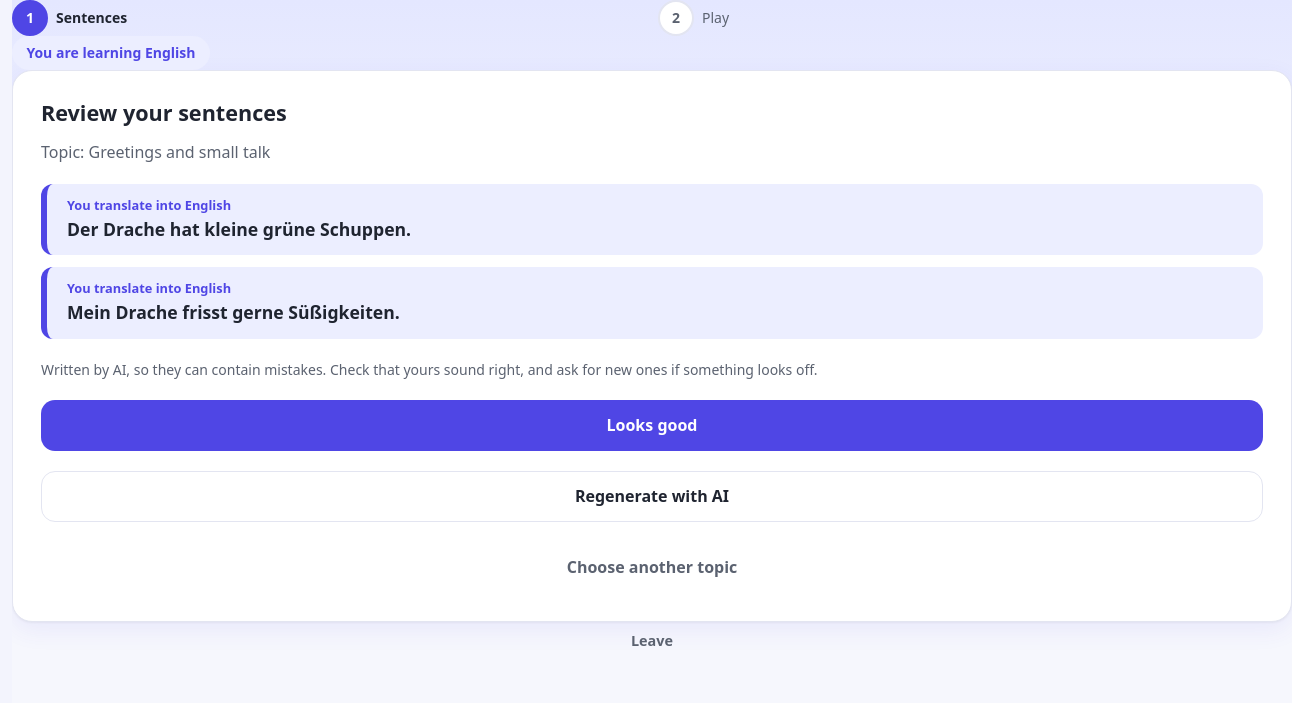
Test case: SoloGame › lets the player go back to earlier sentences, during the round and after it
Click the button "Looks good": (652, 426) [41,400,1263,451]
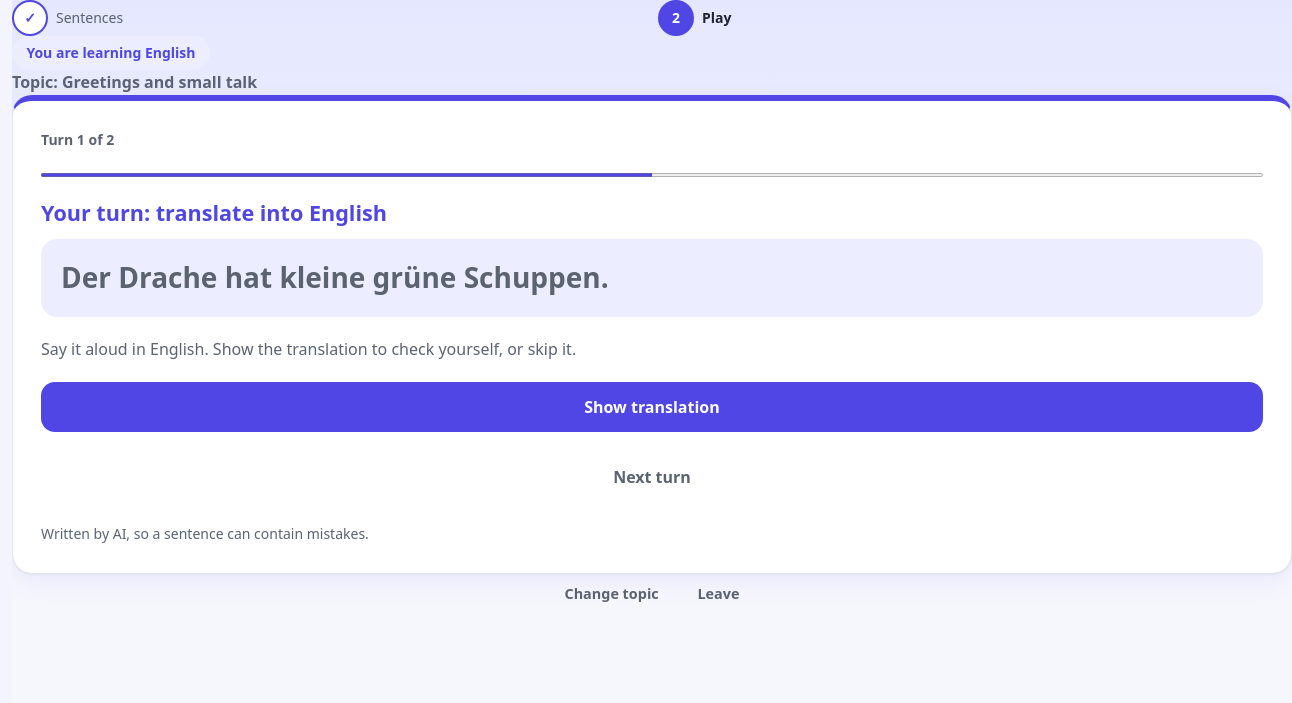
Expected: the button "Previous sentence" is not shown
Click the button "Next turn": (652, 478) [41,452,1263,503]
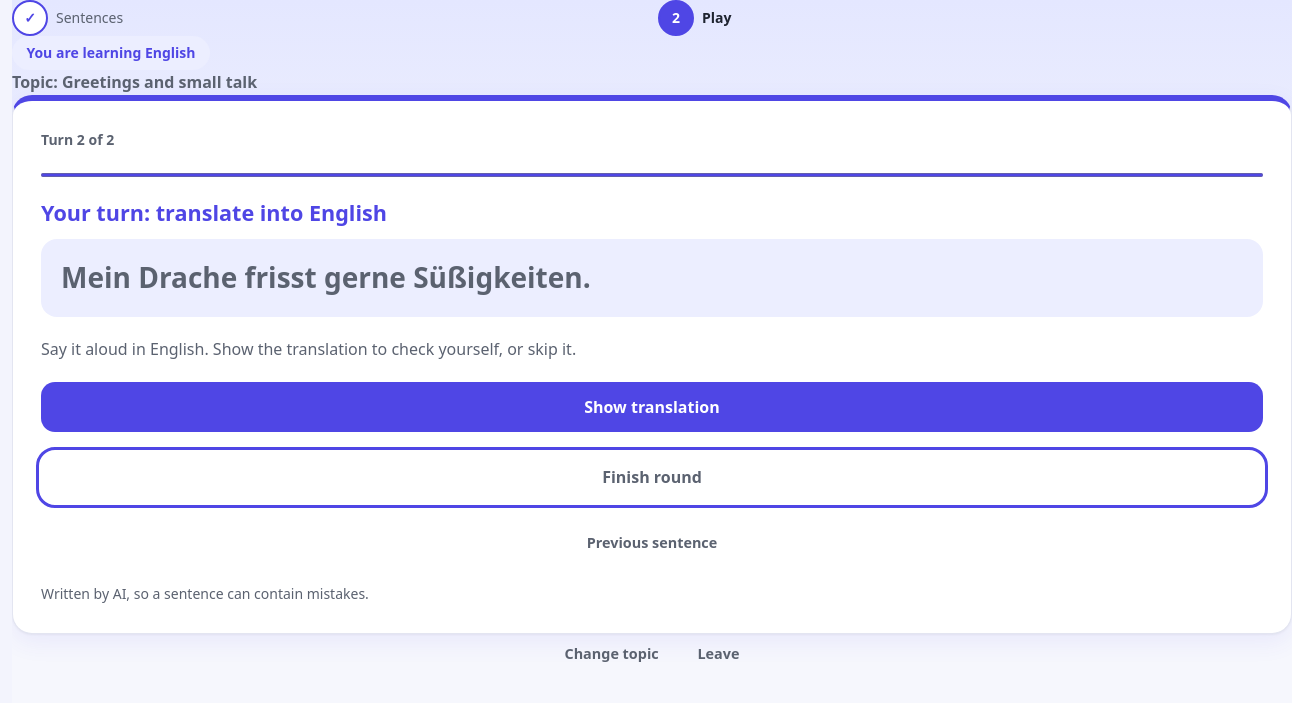
Click the button "Previous sentence": (652, 543) [571,523,733,563]
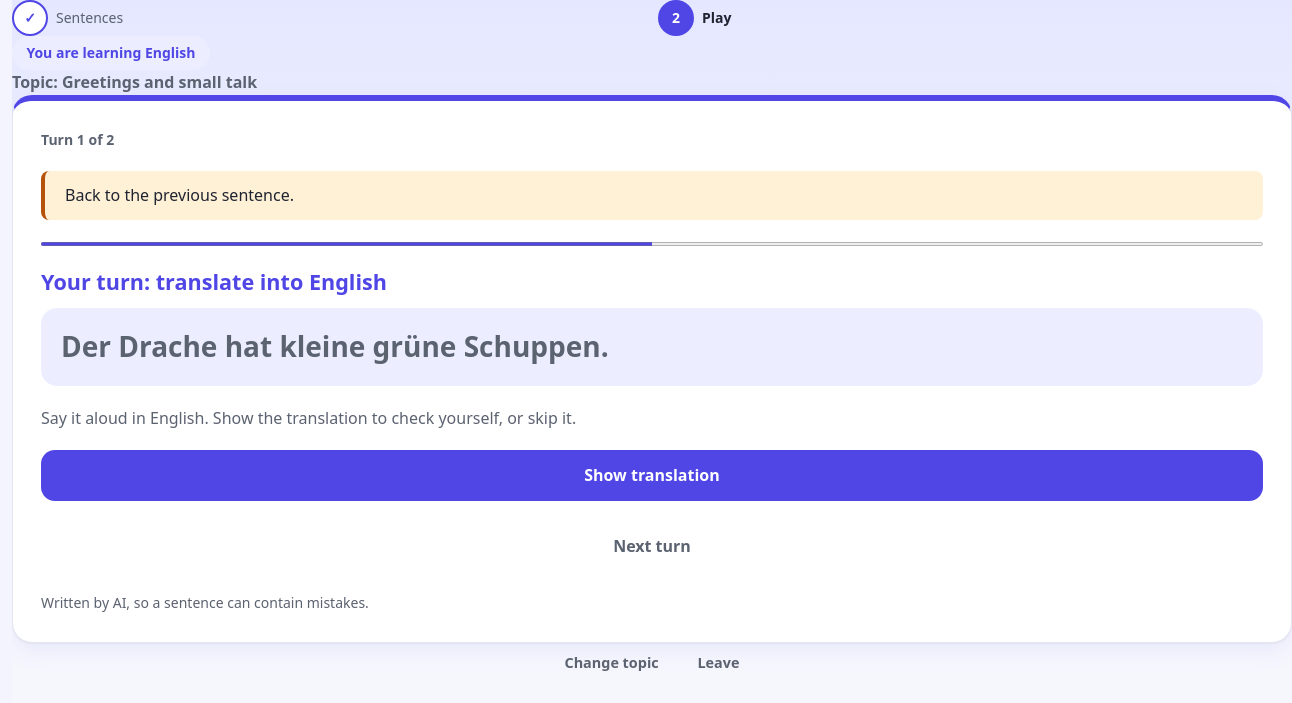
Now the text "Turn 1 of 2" is shown, box [41,130,114,149]
Now the text with class "sentence" reads "Der Drache hat kleine grüne Schuppen.", box [61,327,609,365]
Click the button "Next turn": (652, 547) [41,521,1263,572]
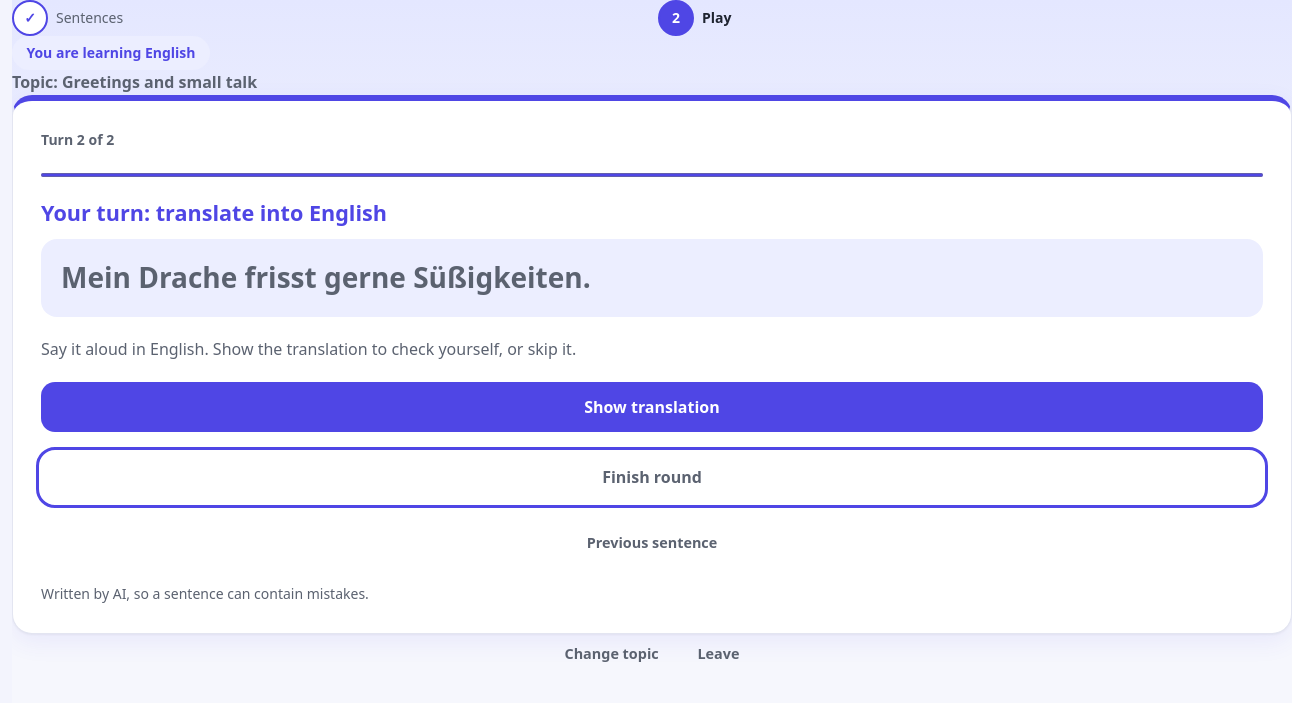
Click the button "Finish round": (652, 478) [41,452,1263,503]
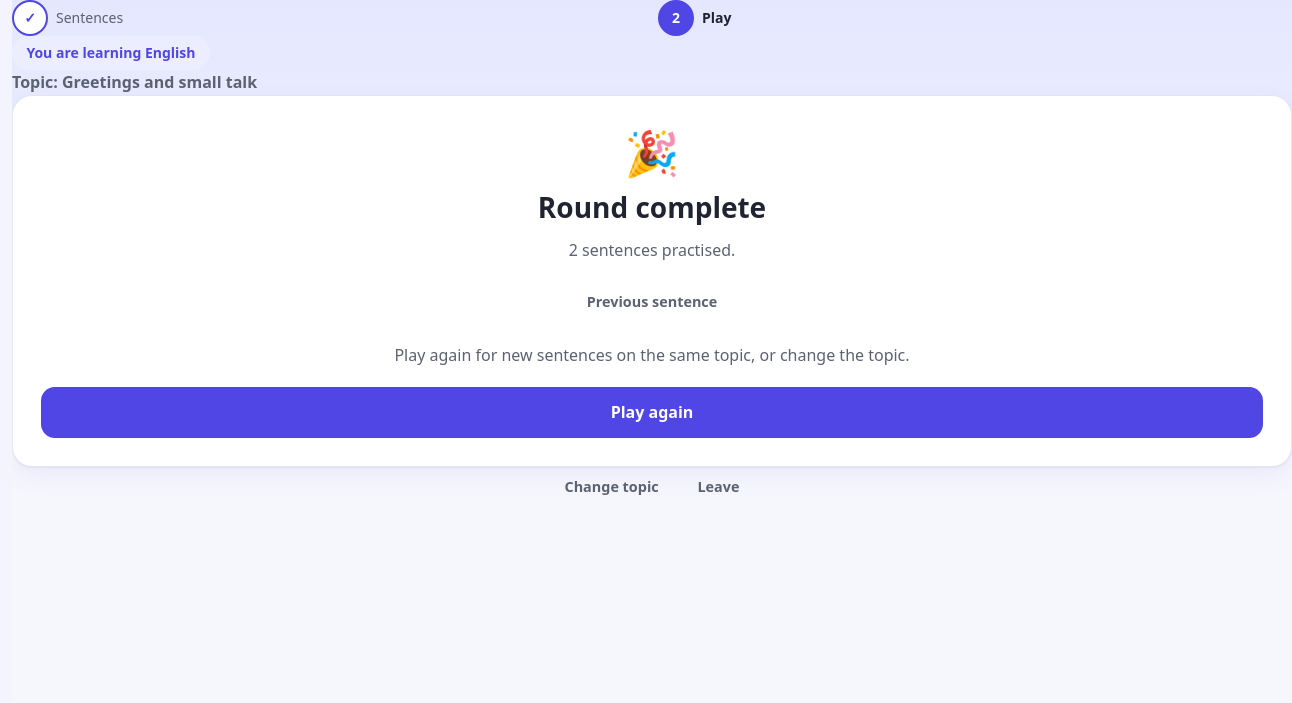
Click the button "Previous sentence": (652, 303) [571,283,733,323]
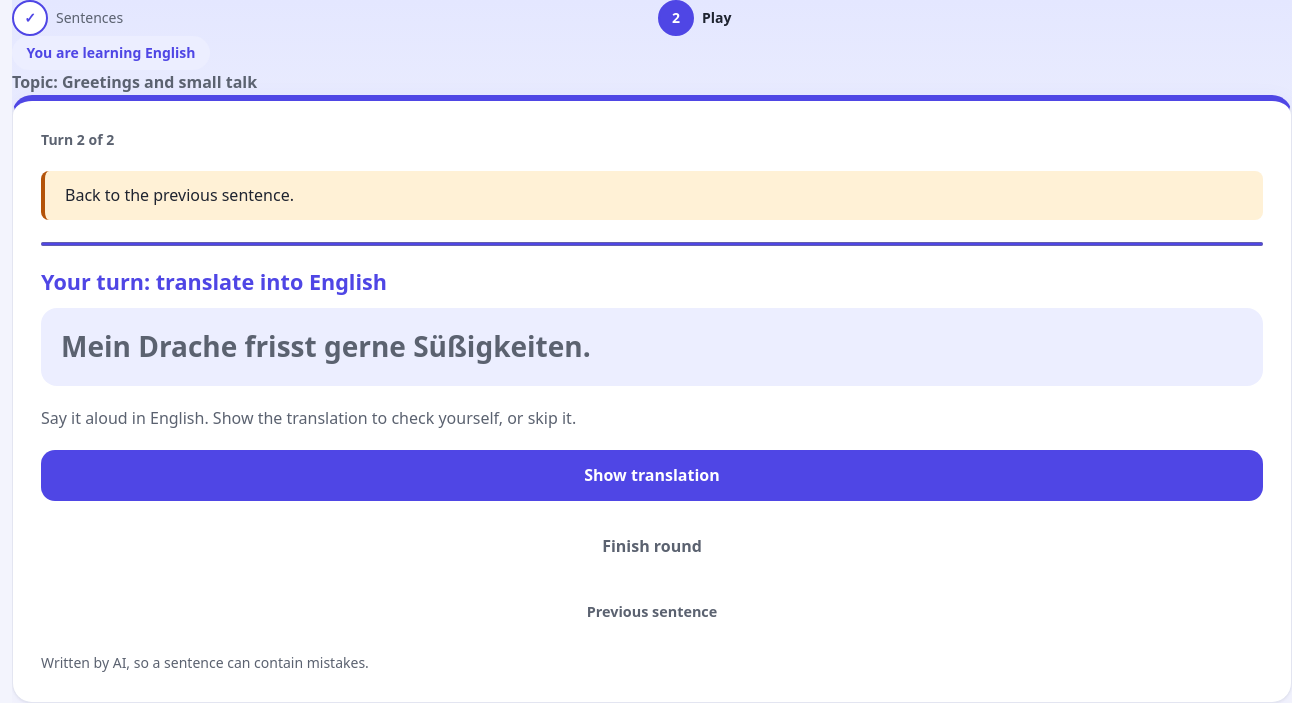
Now the text "Turn 2 of 2" is shown, box [41,130,114,149]
